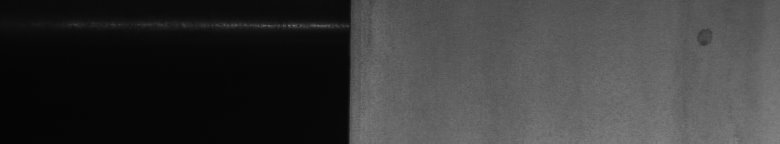fi: (693, 24, 716, 52)
